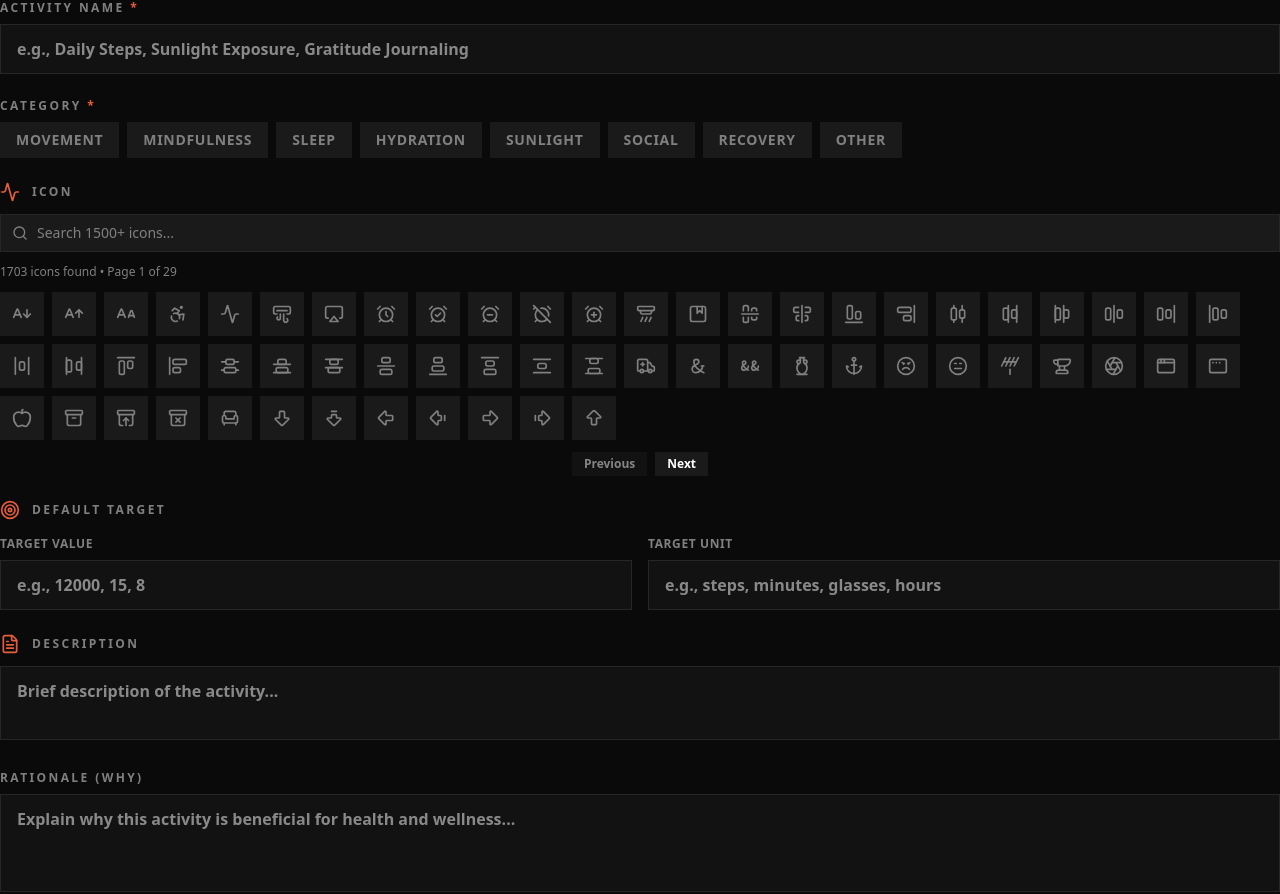
Test: LifestyleActivityTypeForm Component › only one icon can be selected at a time
Note: Search for and select footprints
Type "footprints" into the field with placeholder "Search 1500+ icons..." at (640,233), box [0,214,1279,252]
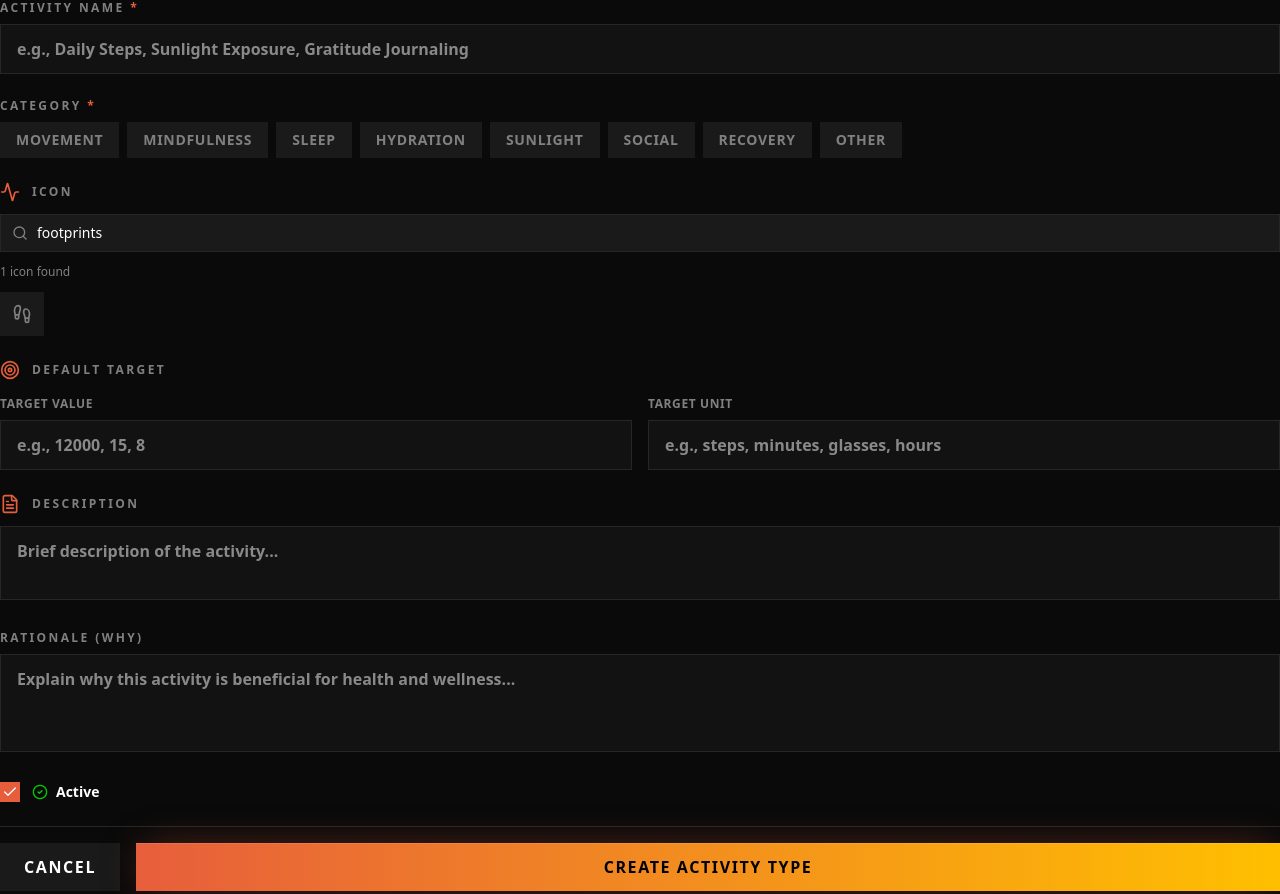
Click the button named "footprints" at (22,314), box [0,292,44,336]
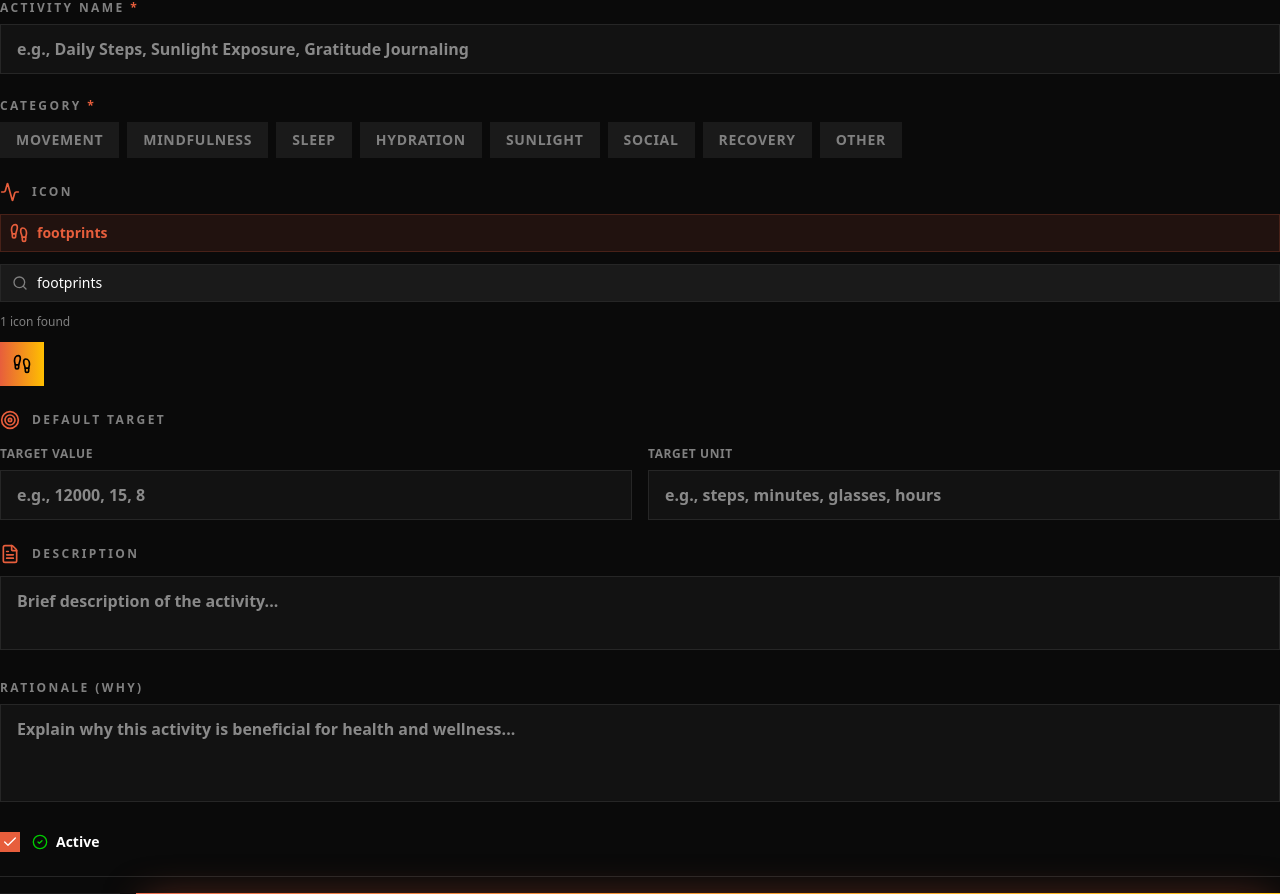
expect the text "footprints" is shown: met, box [37,223,108,243]
Note: Search for and select moon
Replace the text in the field with placeholder "Search 1500+ icons..." with "moon" at (640,283), box [0,264,1279,302]
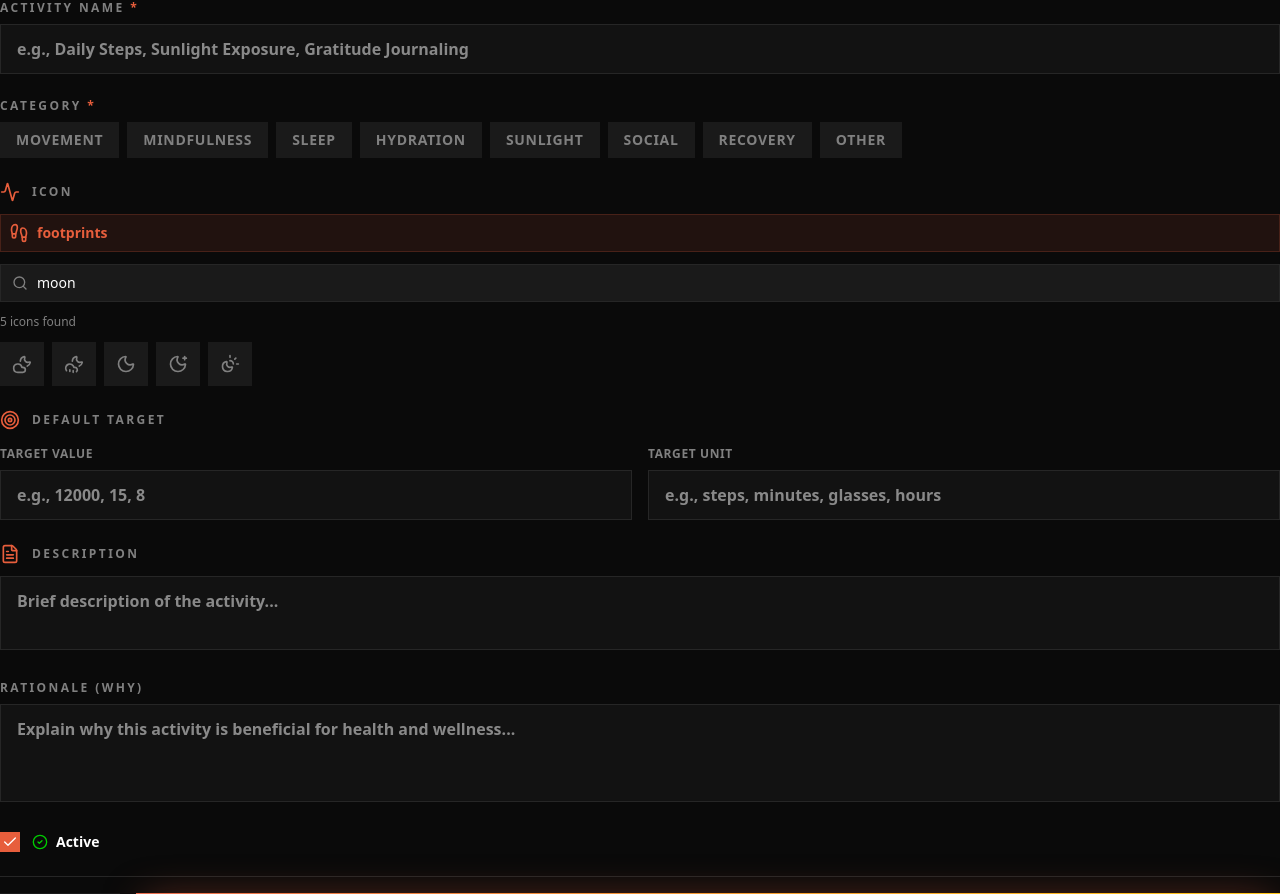
Click the button named "moon" at (126,364), box [104,342,148,386]
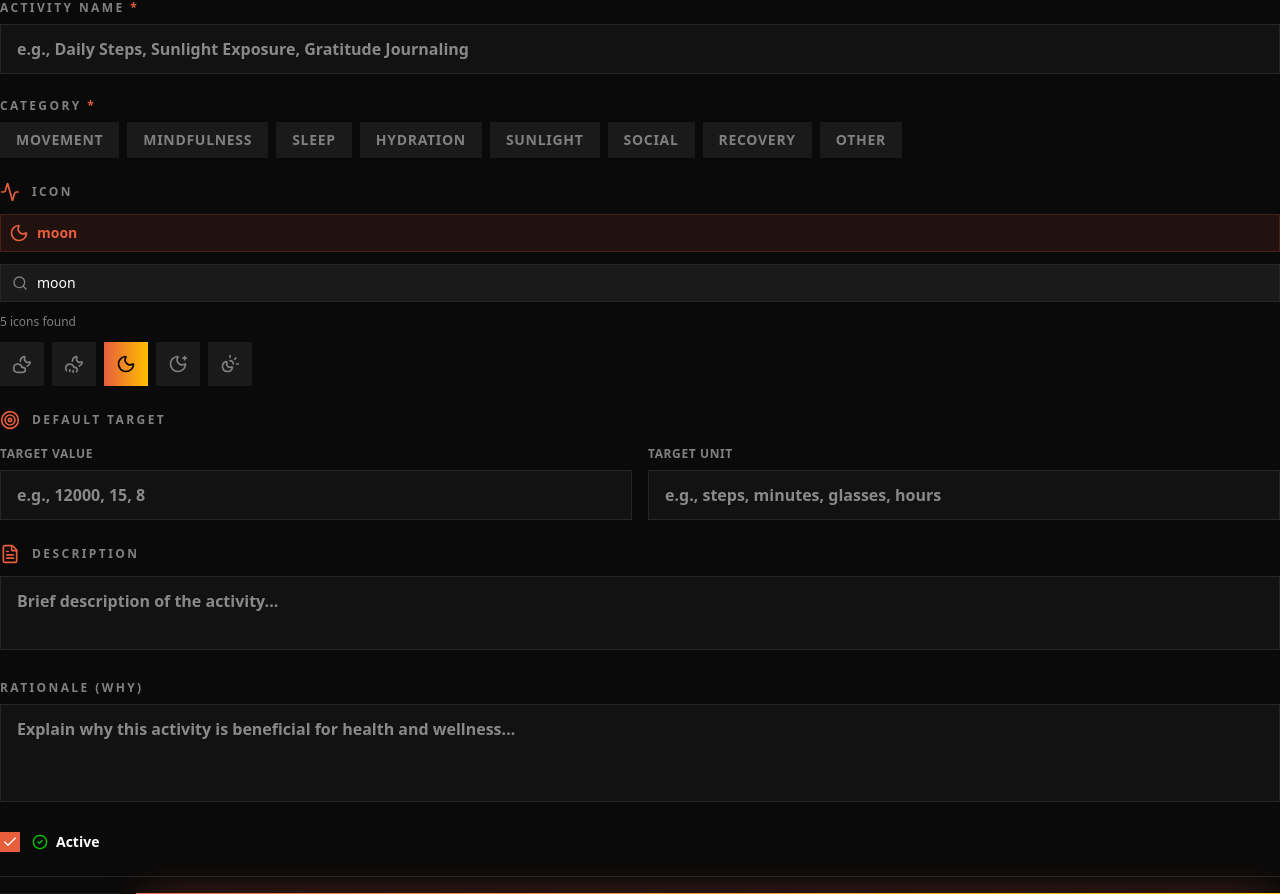
expect the text "moon" is shown: met, box [37,223,77,243]
